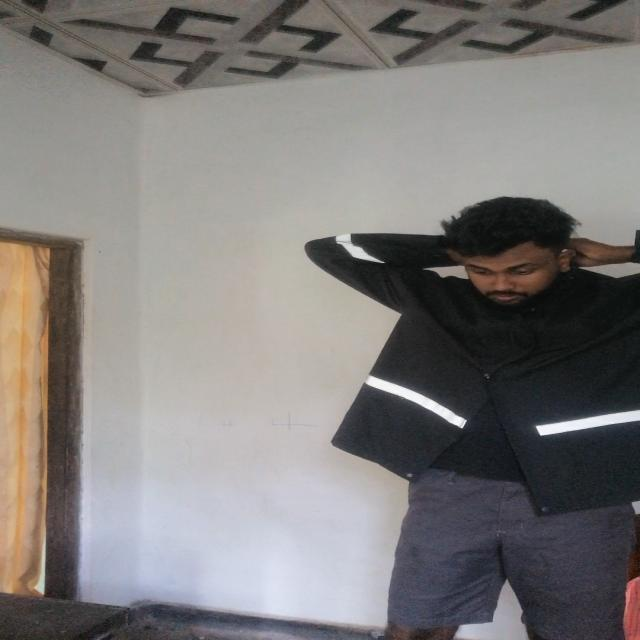Jacket_Wearer: (288, 233, 640, 499)
